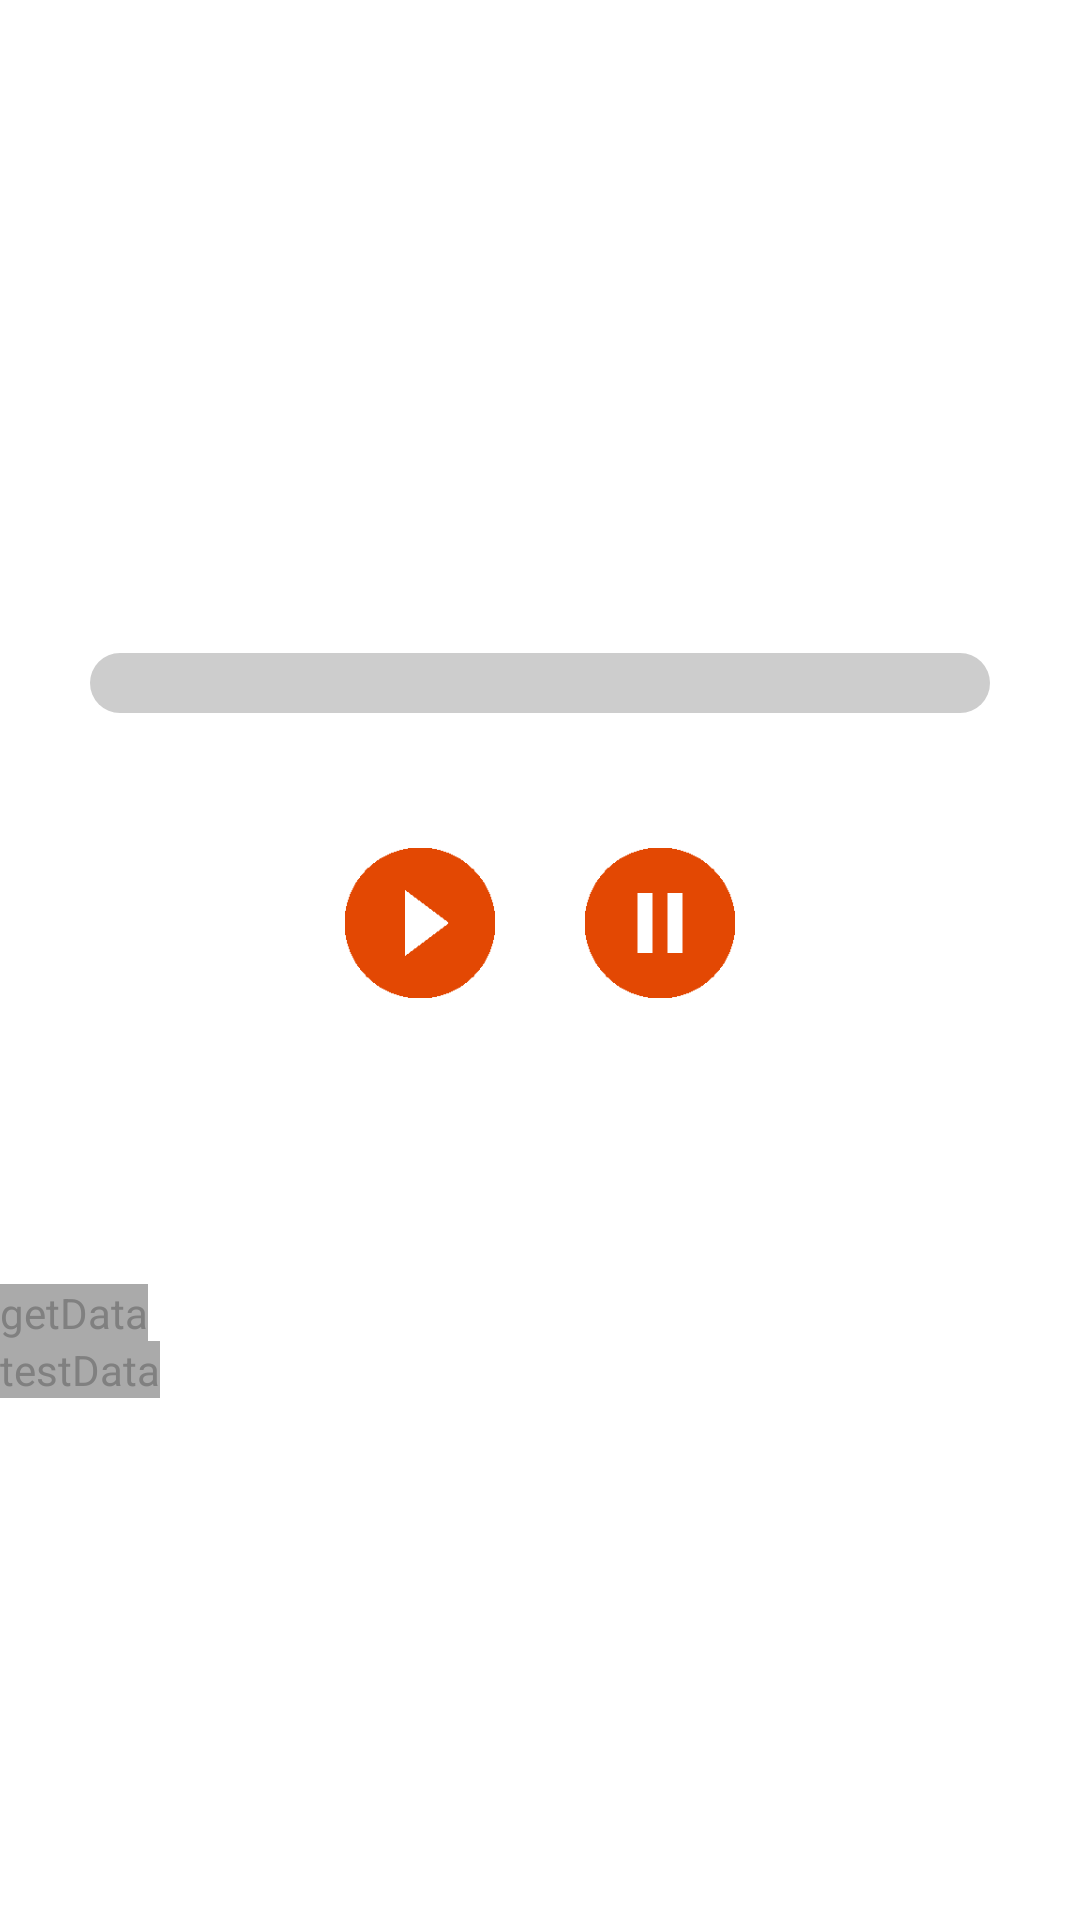

Screen size 1080px×1920px. Icon name, then its center in pixels as (x,y):
pause: (660,923)
play: (420,923)
